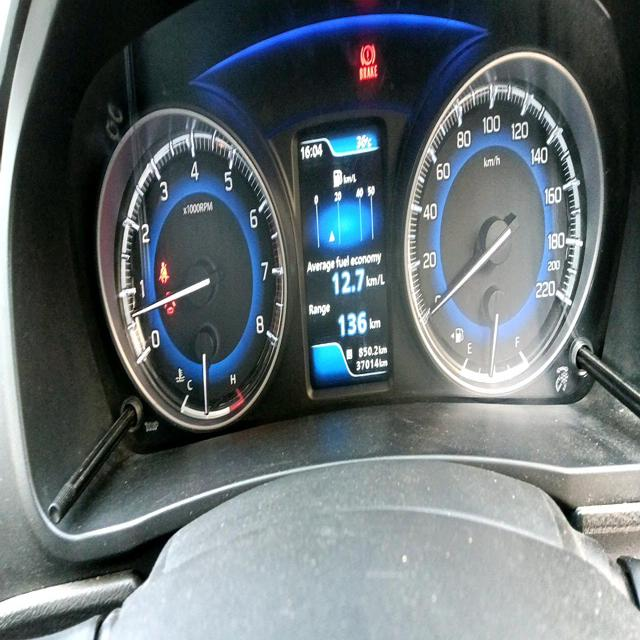odometer: (355, 355, 379, 373)
